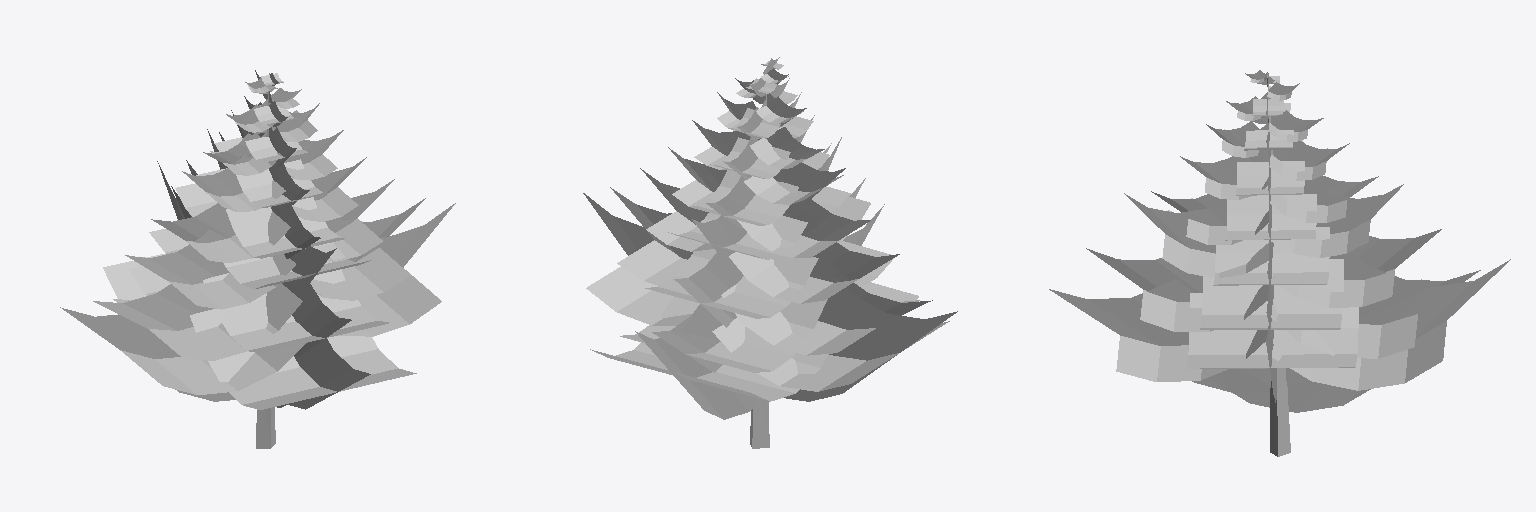
3 renders of one model, left to right at view 1: azimuth 30°, elevation 25°; view 2: azimuth 150°, elevation 25°; view 3: azimuth 270°, elevation 25°, orthographic.
Parts seen in each view (by area): view 1: trunk; view 2: trunk; view 3: trunk.
Boxes of the visible parts, <box> form: trunk: <box>60,70,455,448</box>; trunk: <box>583,57,957,448</box>; trunk: <box>1049,70,1510,456</box>.
Bounding box in the file's own units: 16.18 × 15.34 × 16.86.